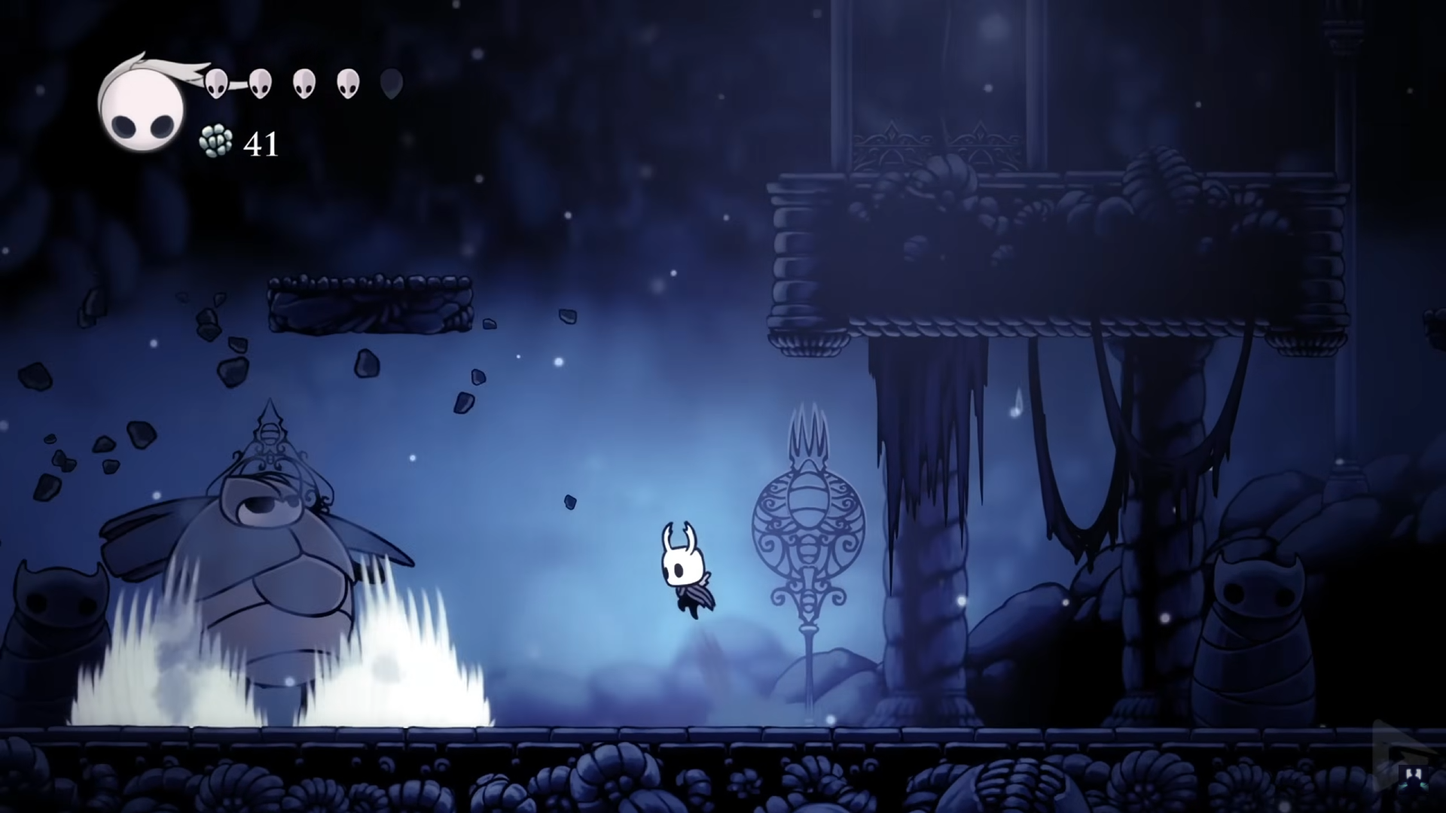HK: (658, 517, 715, 623)
